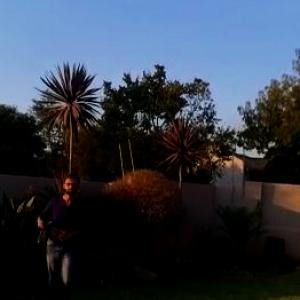follow: (24, 166, 97, 299)
